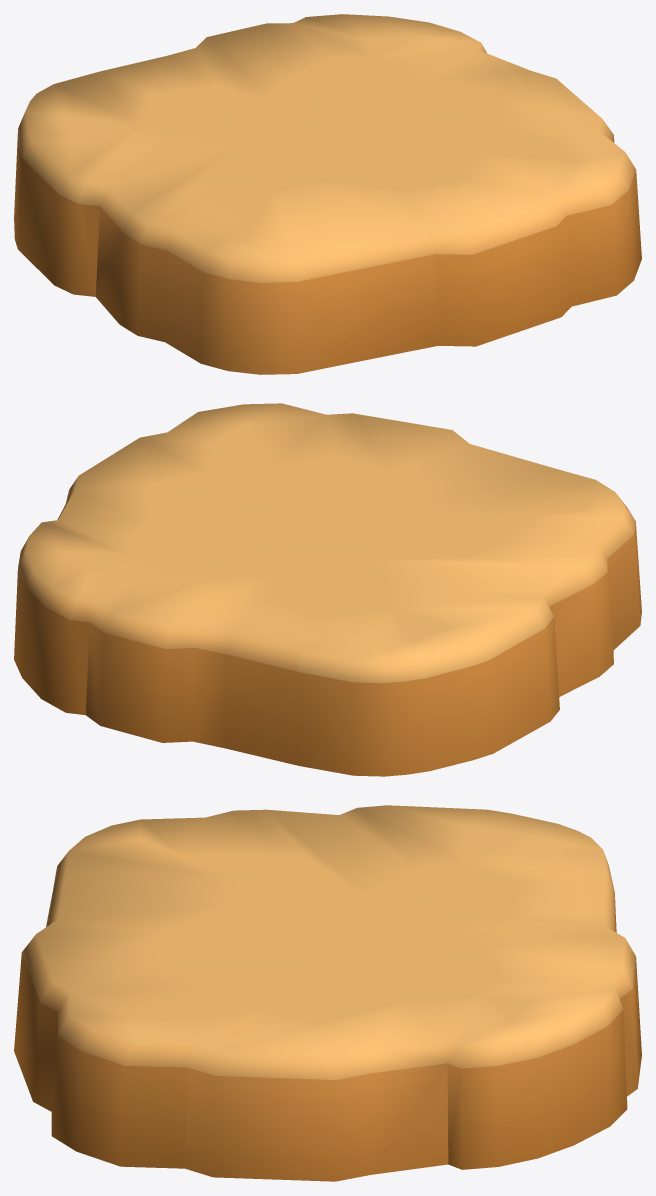
Rendered from Ground 01 Soft Edge.FBX.
3 renders of one model, top to bottom at view 1: azimuth 30°, elevation 25°; view 2: azimuth 150°, elevation 25°; view 3: azimuth 270°, elevation 25°, orthographic. The views are drawn at different scales.
Parts seen in each view (by area): view 1: Ground 01 Soft Edge; view 2: Ground 01 Soft Edge; view 3: Ground 01 Soft Edge.
Part boxes in pixels (box(x1,y1,x2,y2)): Ground 01 Soft Edge: box(14, 14, 641, 374); Ground 01 Soft Edge: box(14, 403, 641, 776); Ground 01 Soft Edge: box(14, 805, 641, 1181).
Size of the model in its own units: 2062 by 420 by 2045.
1 material, 1 textured.
